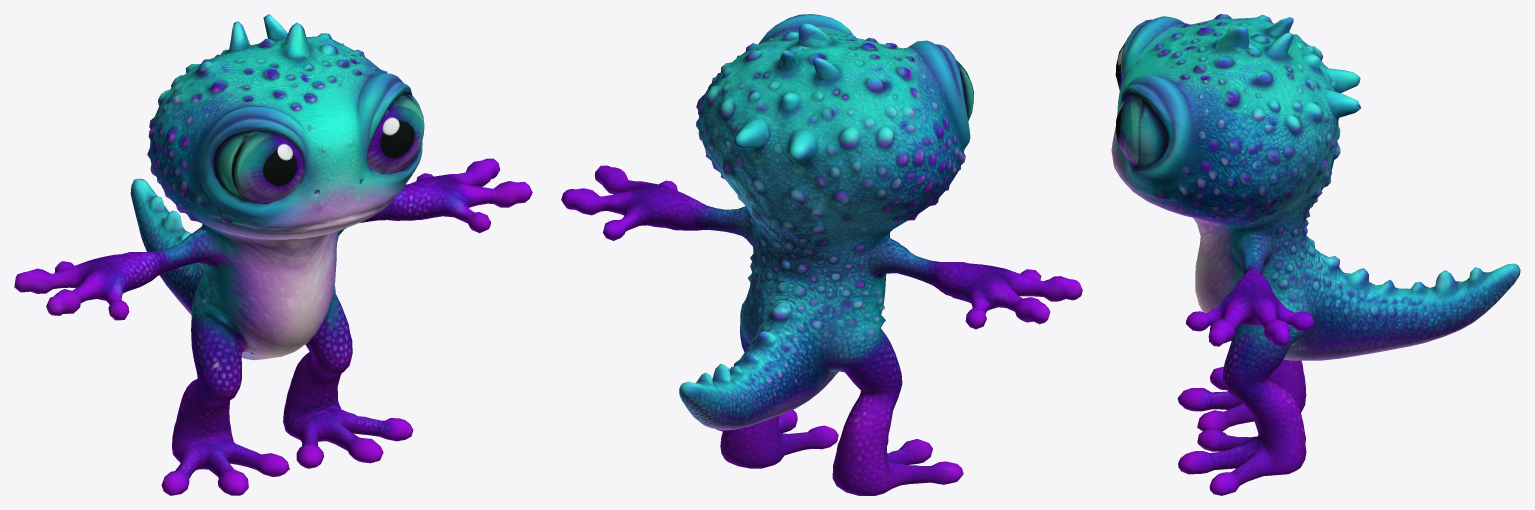
Rendered from Meshy_AI_AquaViolet_Hatchling_0331113547_texture.obj.
The picture shows the model from 3 angles, left to right: view 1: azimuth 30°, elevation 25°; view 2: azimuth 150°, elevation 25°; view 3: azimuth 270°, elevation 25°; orthographic projection. The views are drawn at different scales.
Visible parts, largest first — view 1: Meshy_AI_AquaViolet_Hatchling_0331113547_texture; view 2: Meshy_AI_AquaViolet_Hatchling_0331113547_texture; view 3: Meshy_AI_AquaViolet_Hatchling_0331113547_texture.
Boxes of the visible parts, x1,y1,x2,y2 form: Meshy_AI_AquaViolet_Hatchling_0331113547_texture: [14, 14, 532, 495]; Meshy_AI_AquaViolet_Hatchling_0331113547_texture: [561, 14, 1082, 495]; Meshy_AI_AquaViolet_Hatchling_0331113547_texture: [1111, 14, 1520, 495].
Bounding box in the file's own units: 1.91 × 1.63 × 1.43.
1 material, 1 textured.
